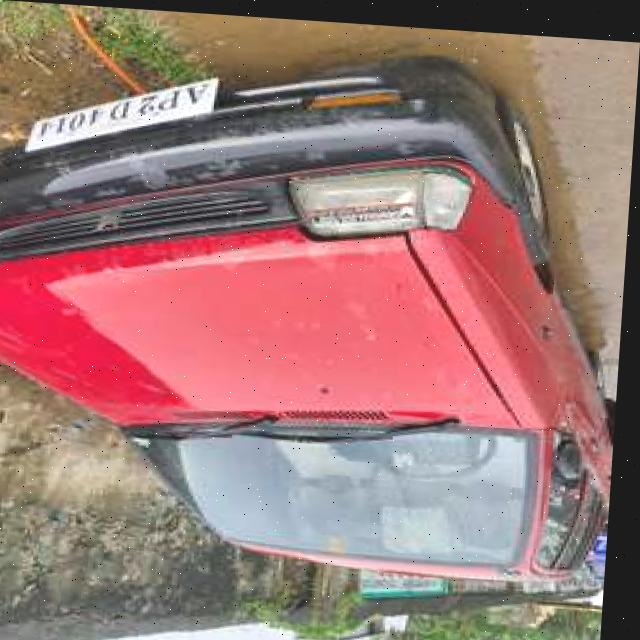plate: (25, 66, 221, 161)
